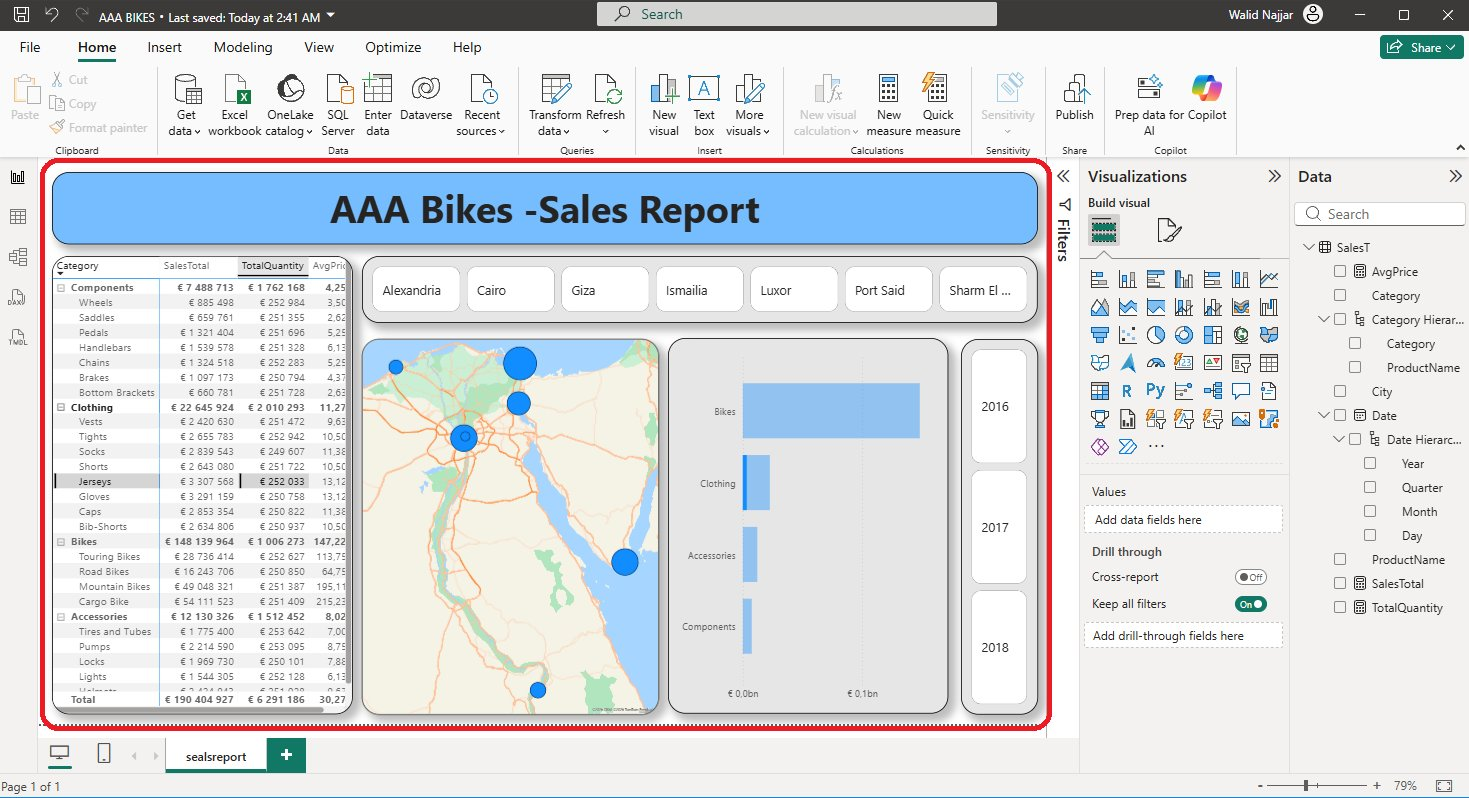

This screenshot's page, from the dashboard's own definition file:
{"tool":"powerbi","page":{"name":"sealsreport","canvas":[1280,720],"ordinal":0},"visuals":[{"type":"pivotTable","fields":{"Values":["SalesT.SalesTotal","SalesT.TotalQuantity","SalesT.AvgPrice"],"Rows":["SalesT.Category Hierarchy.Category","SalesT.Category Hierarchy.ProductName"]},"box":[17.8,126.2,381.6,582.1],"z":0},{"type":"textbox","box":[17.8,19.3,1251.8,92.1],"z":1000},{"type":"azureMap","fields":{"Category":["SalesT.City"],"Size":["SalesT.TotalQuantity"]},"box":[411.4,231.1,377.1,477.5],"z":2000},{"type":"clusteredBarChart","fields":{"Y":["SalesT.SalesTotal"],"Category":["SalesT.Category Hierarchy.Category","SalesT.Category Hierarchy.ProductName"]},"box":[800,229.8,355.6,477.5],"z":3000},{"type":"advancedSlicerVisual","fields":{"Values":["SalesT.Date.Variation.Date Hierarchy.Year"]},"box":[1172.1,231.1,97.8,477.5],"z":4000},{"type":"advancedSlicerVisual","fields":{"Values":["SalesT.City"]},"box":[411.3,126.2,858.3,84.6],"z":5000}]}

Visuals, with their boxes on the page's 1280x720 design canvas (x1, y1, x2, y2). These are canvas units, not pixel positions in the 1469x798 screenshot, which may show the page scaled, cropped or inside an application window:
pivotTable - SalesT.SalesTotal x SalesT.TotalQuantity: <bbox>18, 126, 399, 708</bbox>
textbox: <bbox>18, 19, 1270, 111</bbox>
azureMap - SalesT.City x SalesT.TotalQuantity: <bbox>411, 231, 788, 709</bbox>
clusteredBarChart - SalesT.SalesTotal x SalesT.Category Hierarchy.Category: <bbox>800, 230, 1156, 707</bbox>
advancedSlicerVisual - SalesT.Date.Variation.Date Hierarchy.Year: <bbox>1172, 231, 1270, 709</bbox>
advancedSlicerVisual - SalesT.City: <bbox>411, 126, 1270, 211</bbox>
